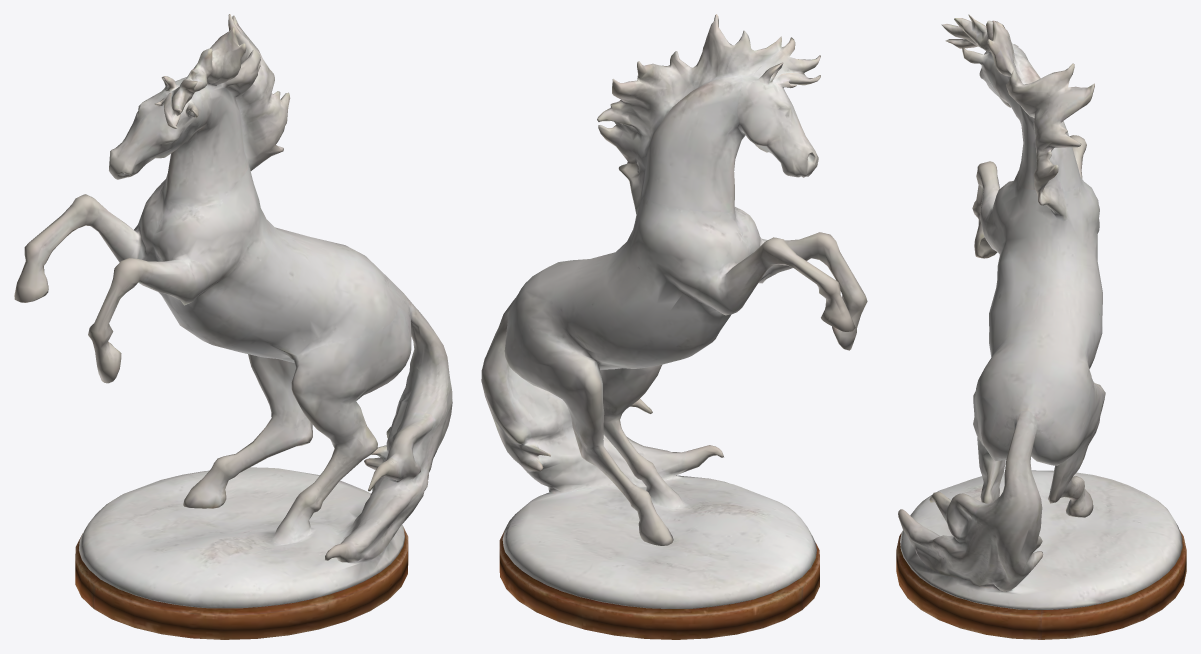
The model's file is horse_statue_01.glb.
3 views of the same model, side by side, from view 1: azimuth 30°, elevation 25°; view 2: azimuth 150°, elevation 25°; view 3: azimuth 270°, elevation 25° (orthographic). The views are drawn at different scales.
Parts seen in each view (by area): view 1: horse_statue_01; view 2: horse_statue_01; view 3: horse_statue_01.
Part boxes in pixels (box(x1,y1,x2,y2)): horse_statue_01: box(14, 14, 452, 639); horse_statue_01: box(481, 14, 867, 639); horse_statue_01: box(896, 14, 1186, 639).
Size of the model in its own units: 0.1638 by 0.22 by 0.1078.
Materials: 1 (1 with a texture image).
